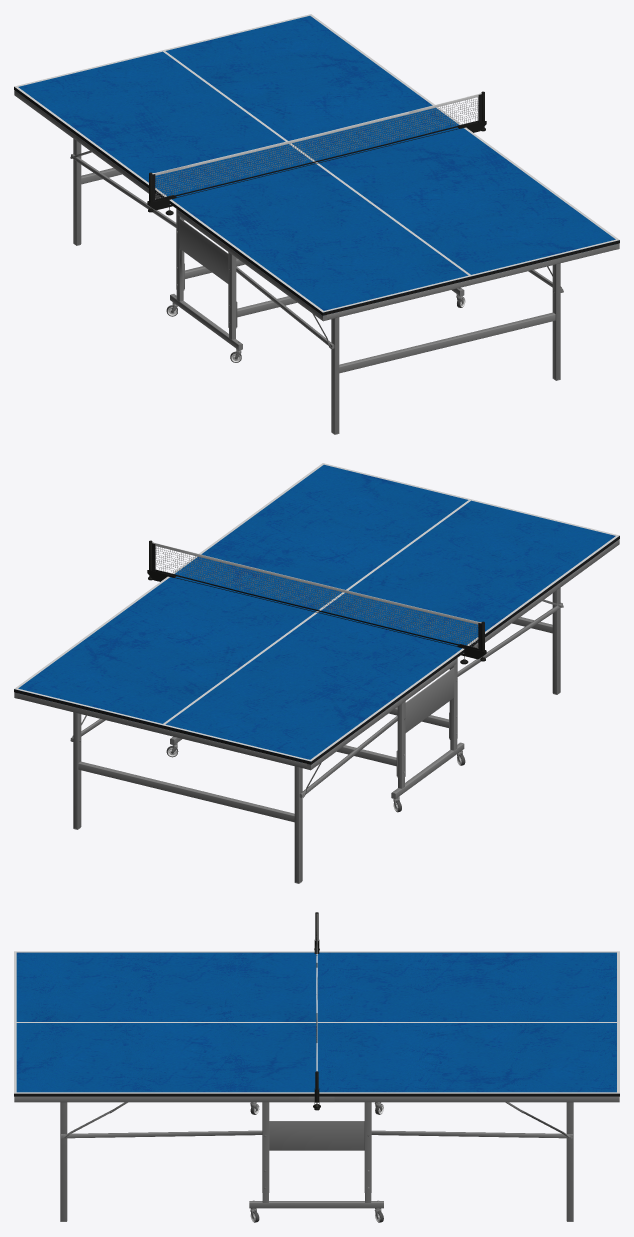
Rendered from mesa.glb.
3 views of the same model, one above another, from view 1: azimuth 30°, elevation 25°; view 2: azimuth 150°, elevation 25°; view 3: azimuth 270°, elevation 25° (orthographic).
Parts seen in each view (by area): view 1: Object_3, Object_32, Object_33, Object_5, Object_4, Object_2, Object_35, Object_30; view 2: Object_3, Object_32, Object_33, Object_5, Object_4, Object_2, Object_35, Object_30; view 3: Object_3, Object_33, Object_32, Object_5, Object_4.
Part boxes in pixels (box(x1,y1,x2,y2)): Object_3: box(18, 16, 615, 310); Object_32: box(70, 139, 563, 434); Object_33: box(14, 90, 619, 329); Object_5: box(14, 14, 619, 312); Object_4: box(14, 87, 619, 315); Object_2: box(152, 93, 481, 175); Object_35: box(152, 94, 481, 201); Object_30: box(147, 91, 486, 215); Object_3: box(18, 465, 615, 761); Object_32: box(70, 588, 563, 883); Object_33: box(14, 539, 619, 778); Object_5: box(14, 463, 619, 761); Object_4: box(14, 536, 619, 764); Object_2: box(152, 542, 481, 624); Object_35: box(152, 543, 481, 650); Object_30: box(147, 540, 486, 664); Object_3: box(16, 952, 616, 1092); Object_33: box(14, 1013, 619, 1192); Object_32: box(60, 955, 573, 1221); Object_5: box(14, 951, 619, 1093); Object_4: box(14, 1093, 619, 1096).
Bounding box in the file's own units: 1.73 × 0.878 × 2.74.
Materials: 10 (6 with a texture image).
